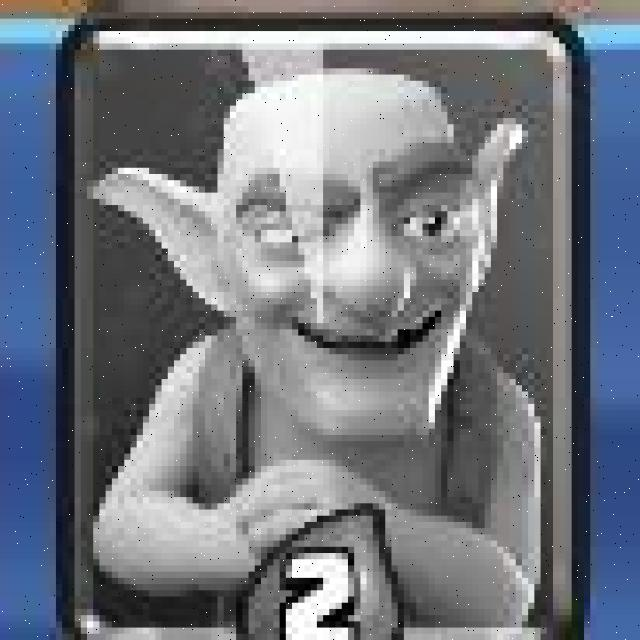Goblins: (55, 12, 585, 640)
